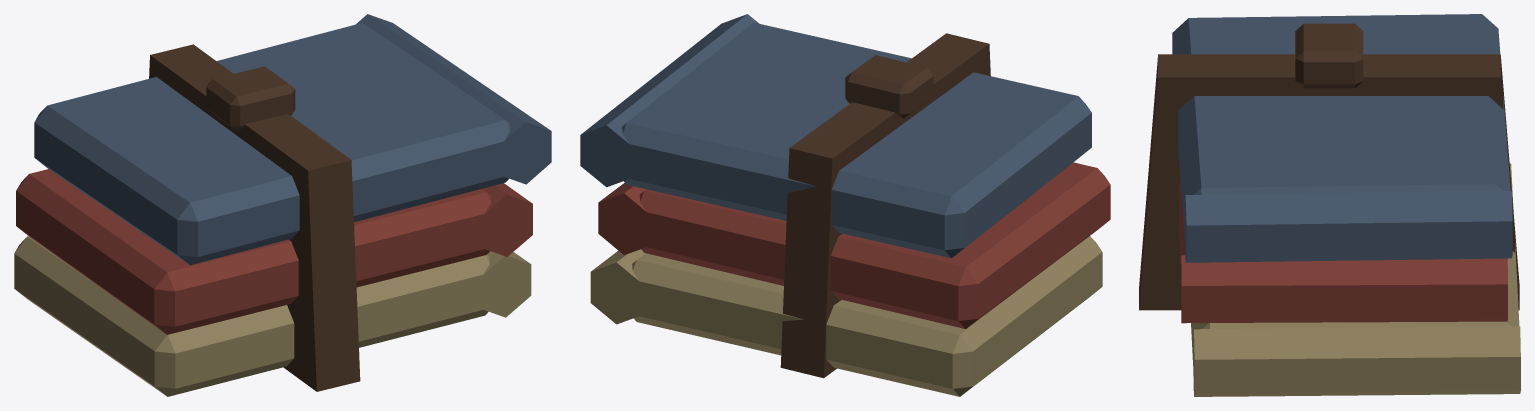
The model's file is item_cloth.glb.
3 views of the same model, side by side, from view 1: azimuth 30°, elevation 25°; view 2: azimuth 150°, elevation 25°; view 3: azimuth 270°, elevation 25° (orthographic). The views are drawn at different scales.
Visible parts, largest first — view 1: cloth; view 2: cloth; view 3: cloth.
Boxes of the visible parts, box(x1,y1,x2,y2) form: cloth: box(14, 14, 551, 396); cloth: box(580, 14, 1110, 396); cloth: box(1139, 14, 1520, 396).
Size of the model in its own units: 0.3658 by 0.212 by 0.2808.
